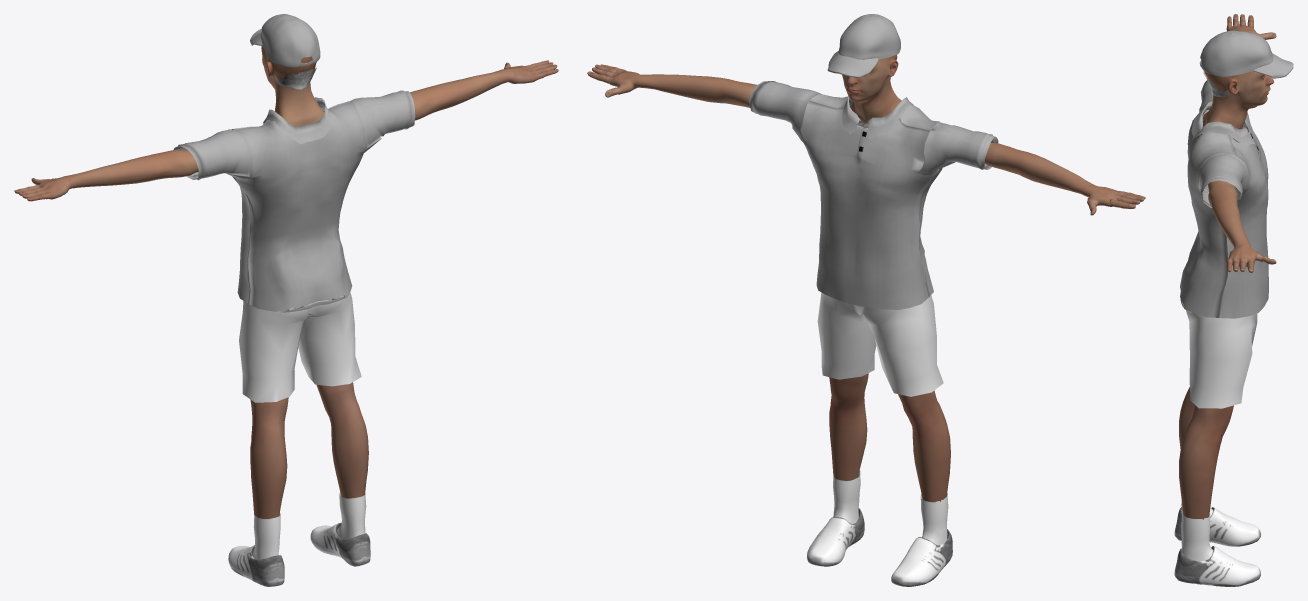
Rendered from mensch_e.glb.
The picture shows the model from 3 angles, left to right: view 1: azimuth 30°, elevation 25°; view 2: azimuth 150°, elevation 25°; view 3: azimuth 270°, elevation 25°; orthographic projection. The views are drawn at different scales.
Parts seen in each view (by area): view 1: mensch; view 2: mensch; view 3: mensch.
Part boxes in pixels (x1=…): mensch: x1=14, y1=14, x2=558, y2=586; mensch: x1=587, y1=14, x2=1145, y2=586; mensch: x1=1174, y1=14, x2=1293, y2=586.
Bounding box in the file's own units: 1.84 × 1.77 × 0.3611.
1 material, 1 textured.
